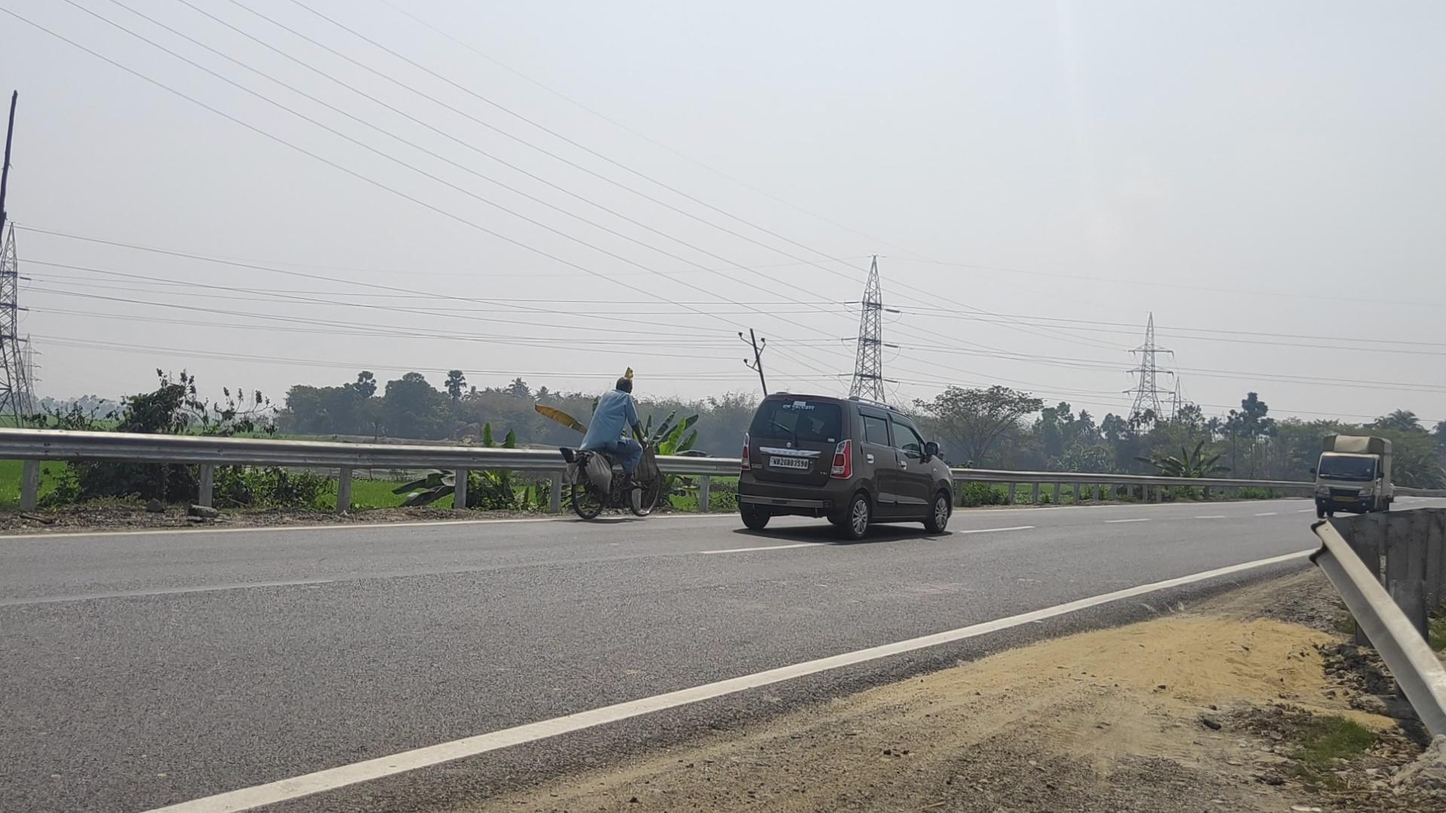bike: (560, 377, 662, 520)
car: (735, 392, 954, 540)
van: (1310, 434, 1392, 517)
